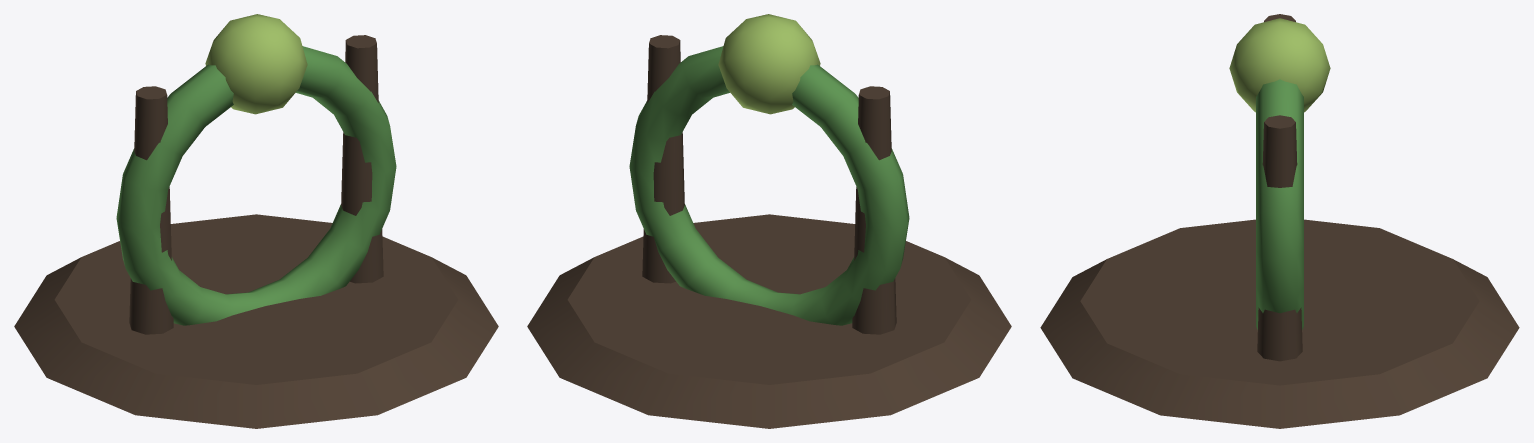
Rendered from prism_reed_habitat.glb.
3 views of the same model, side by side, from view 1: azimuth 30°, elevation 25°; view 2: azimuth 150°, elevation 25°; view 3: azimuth 270°, elevation 25° (orthographic).
Parts seen in each view (by area): view 1: habitat_base, habitat_bowl, habitat_marker, habitat_post_-1, habitat_post_1; view 2: habitat_base, habitat_bowl, habitat_marker, habitat_post_-1, habitat_post_1; view 3: habitat_base, habitat_bowl, habitat_marker, habitat_post_1.
Boxes of the visible parts, x1,y1,x2,y2 form: habitat_base: (14,214,498,428); habitat_bowl: (116,46,396,325); habitat_marker: (205,14,307,114); habitat_post_-1: (129,86,173,334); habitat_post_1: (341,35,383,283); habitat_base: (527,214,1011,428); habitat_bowl: (629,46,909,325); habitat_marker: (718,14,820,114); habitat_post_-1: (852,86,896,334); habitat_post_1: (642,35,684,283); habitat_base: (1040,219,1519,428); habitat_bowl: (1256,79,1303,329); habitat_marker: (1229,18,1330,112); habitat_post_1: (1257,115,1302,361).
Size of what is drawn, in the model's own units: 3.6 by 2.65 by 3.6.
